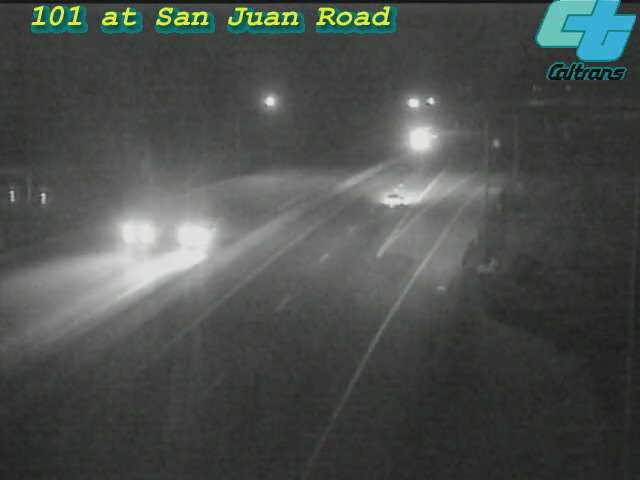vehicle: (102, 193, 182, 273), (154, 194, 234, 274), (353, 160, 433, 240), (391, 115, 441, 165)
